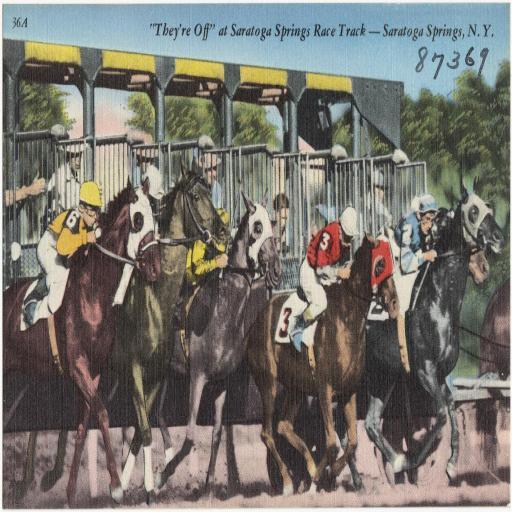horse: (7, 155, 232, 507), (312, 176, 505, 492), (2, 172, 161, 512), (117, 192, 284, 504), (246, 228, 400, 498), (477, 273, 512, 478), (465, 248, 489, 288)
